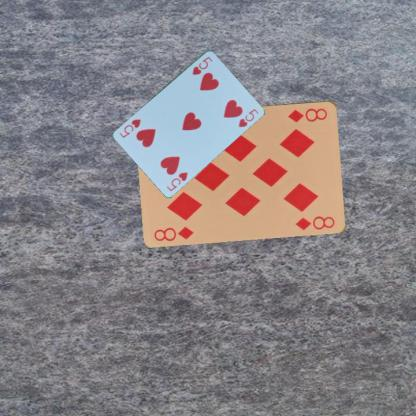5h: (189, 54, 214, 76), (164, 170, 189, 192)
8d: (285, 105, 329, 124), (151, 224, 195, 242)
